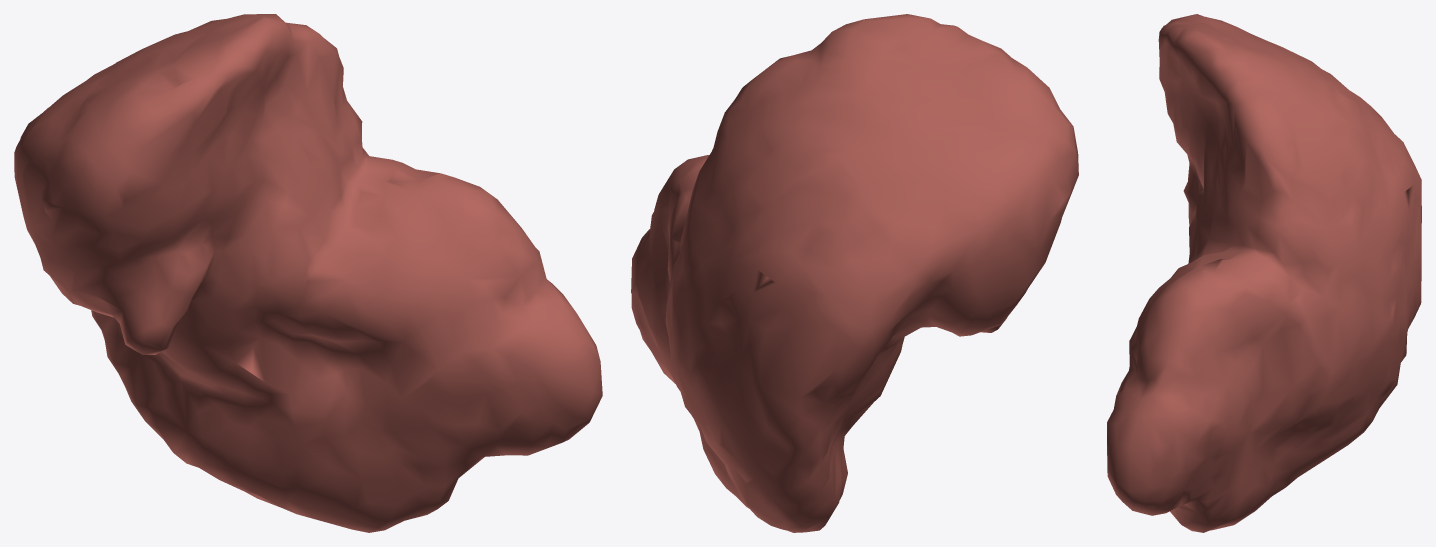
The model's file is tsd_s0196_older_adult_female.lymphatic.LOD2.glb.
3 renders of one model, left to right at view 1: azimuth 30°, elevation 25°; view 2: azimuth 150°, elevation 25°; view 3: azimuth 270°, elevation 25°, orthographic. The views are drawn at different scales.
Visible parts, largest first — view 1: TSD_S0196.OLDER_ADULT.FEMALE.LYMPHATIC.SPLEEN; view 2: TSD_S0196.OLDER_ADULT.FEMALE.LYMPHATIC.SPLEEN; view 3: TSD_S0196.OLDER_ADULT.FEMALE.LYMPHATIC.SPLEEN.
Part boxes in pixels (x1,y1,x2,y2): TSD_S0196.OLDER_ADULT.FEMALE.LYMPHATIC.SPLEEN: [14, 14, 602, 532]; TSD_S0196.OLDER_ADULT.FEMALE.LYMPHATIC.SPLEEN: [631, 14, 1078, 532]; TSD_S0196.OLDER_ADULT.FEMALE.LYMPHATIC.SPLEEN: [1107, 14, 1421, 532].
Bounding box in the file's own units: 0.0933 × 0.0963 × 0.0631.
